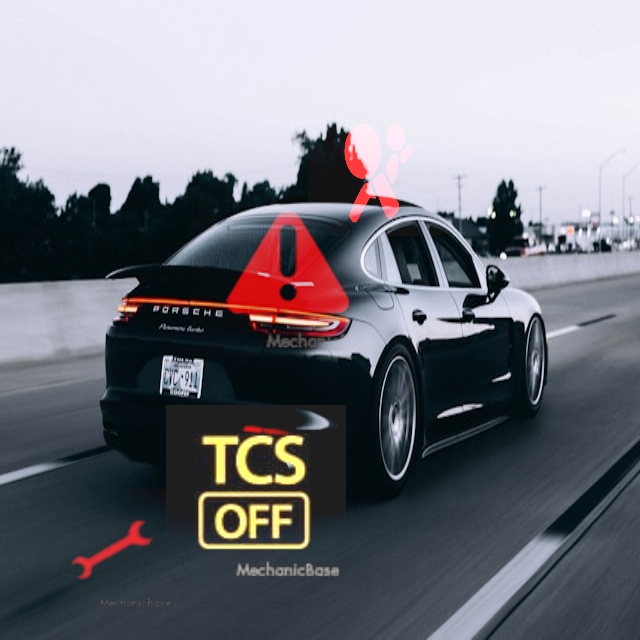symbol: (192, 166, 383, 357), (166, 405, 346, 585), (308, 103, 441, 236), (51, 489, 175, 613)
